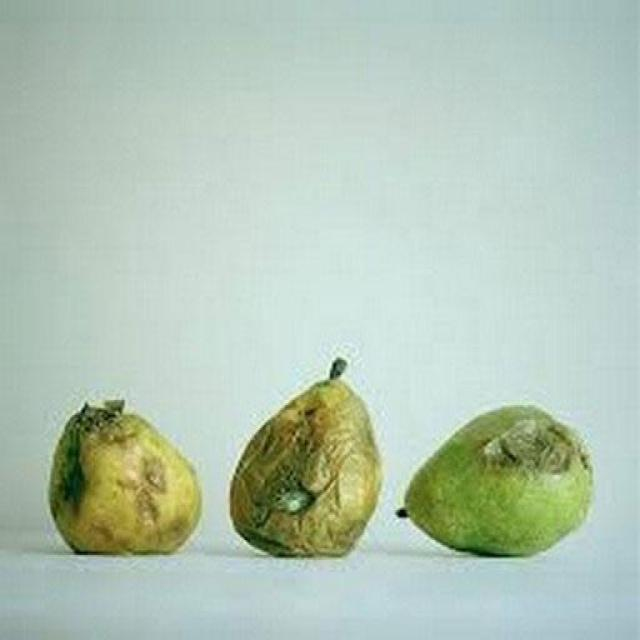organic: (228, 360, 382, 560), (402, 403, 595, 558), (45, 398, 204, 557)
